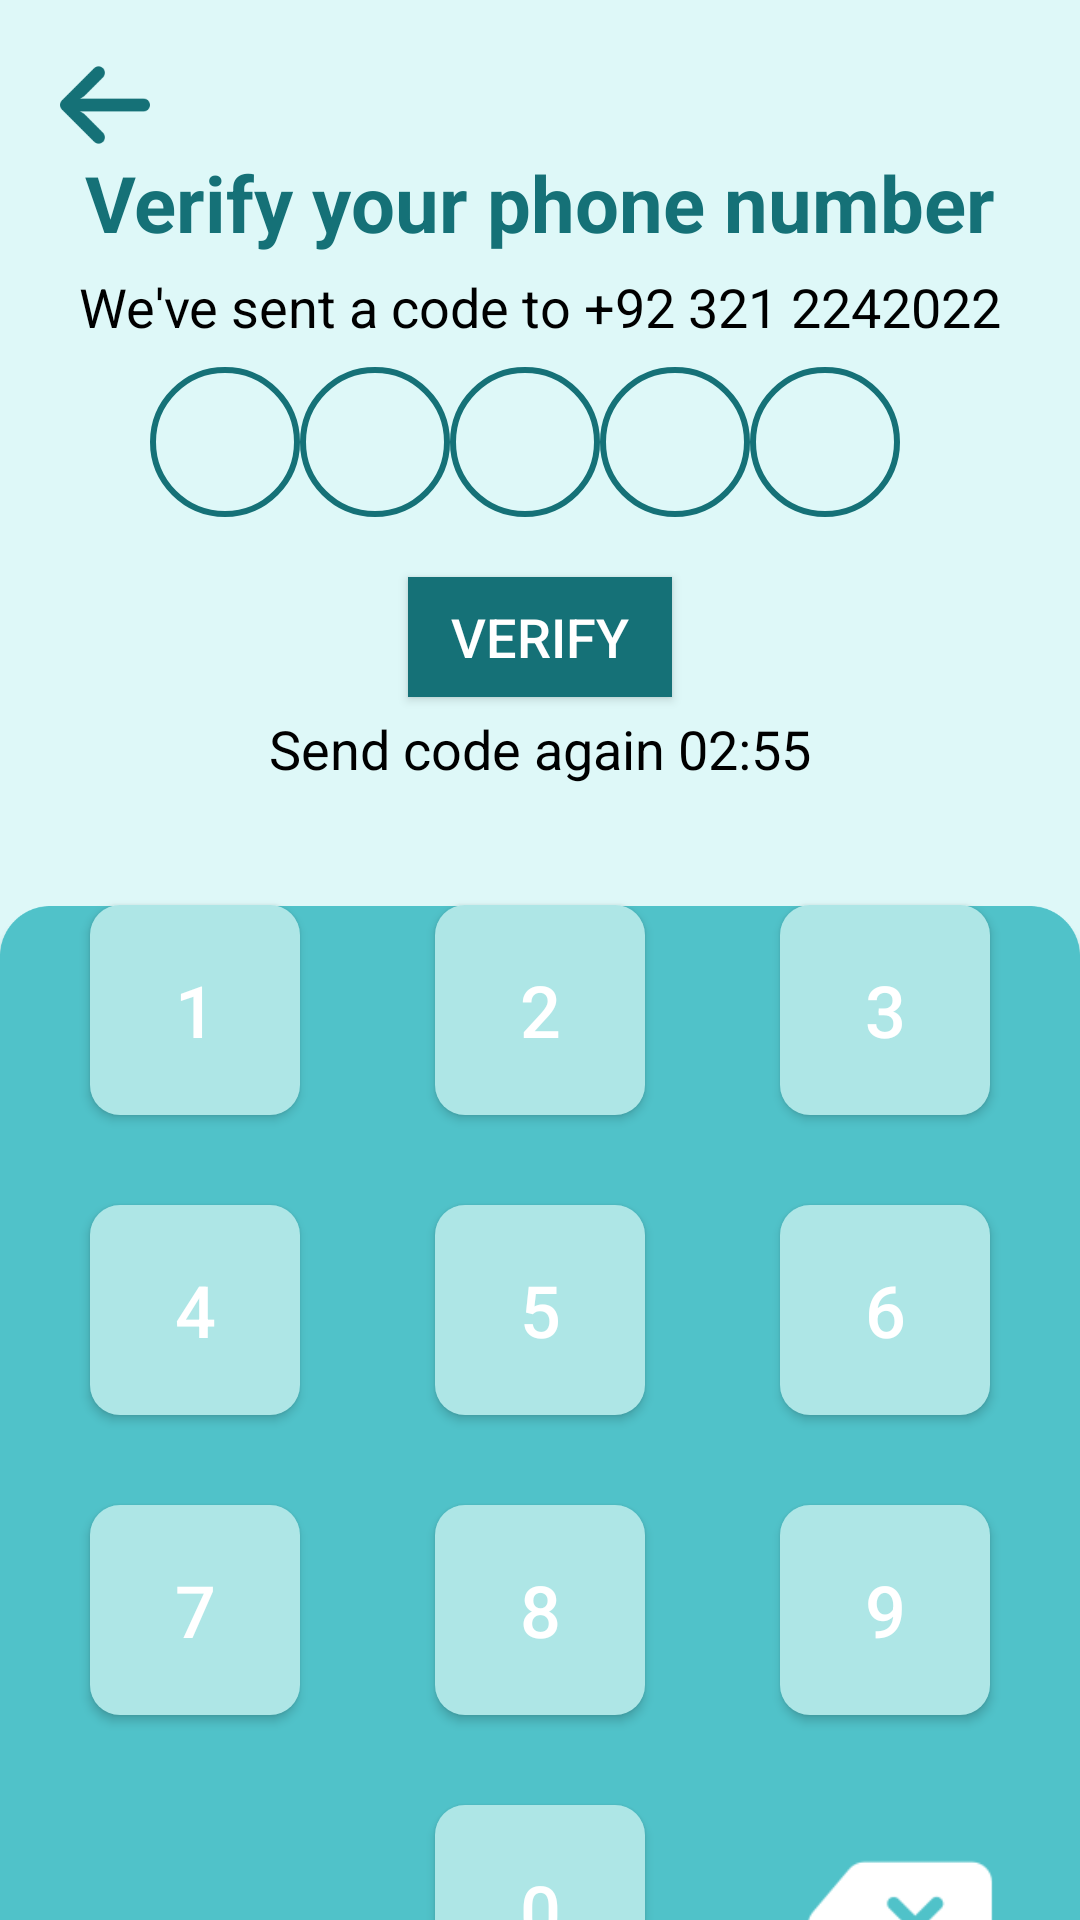

Screen size 1080px x 1920px. Icon name, then its box in pixels as region(x1, y1, x2, y2):
arrow: region(60, 66, 150, 144)
